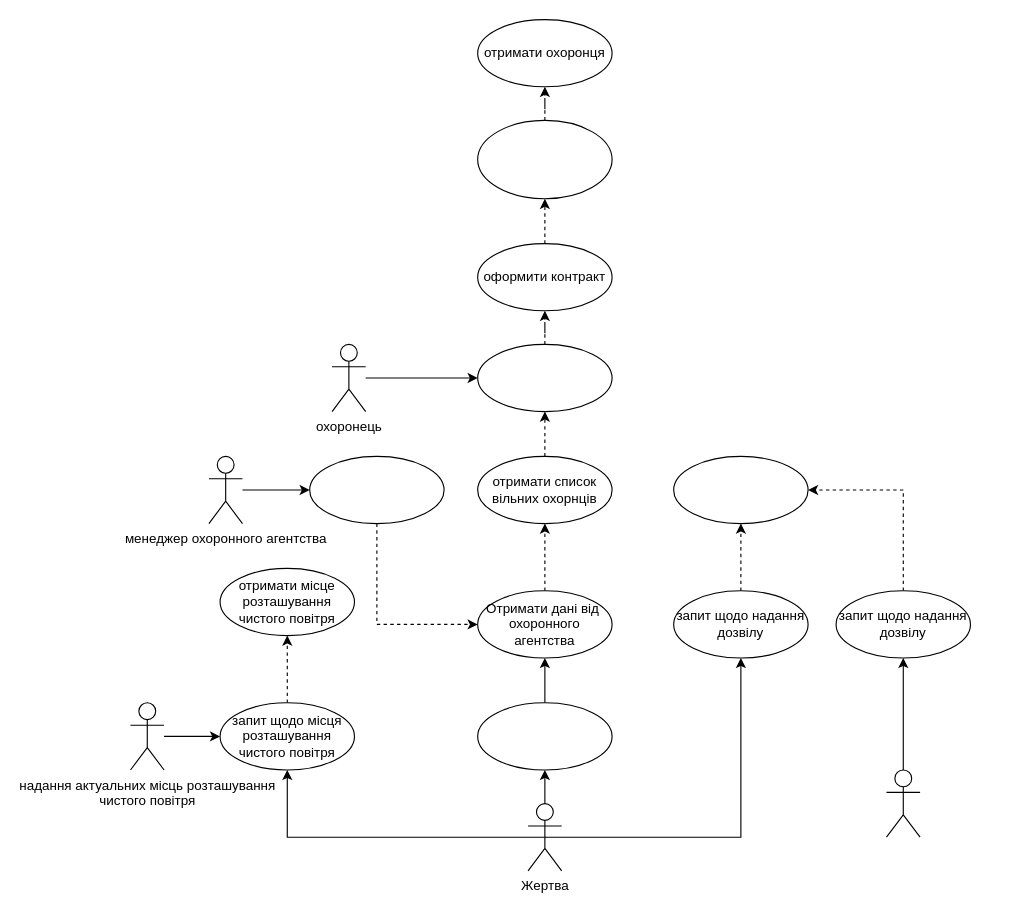
Image size: 1014x914. Some labels were removed from this diagram. The shapes that lost their labels are listed below. From the top down, each one's box as (x1, y1, x2, y2) in pixels, then its label:
(477, 119, 612, 199): сплатити рахунок
(477, 343, 612, 412): обрати охоронця
(309, 455, 444, 524): надати дані агентства
(673, 455, 808, 524): отримати дозвіл
(477, 702, 612, 770): авторизація у агентстві
(885, 769, 920, 837): менеджер з надання дозвілу
